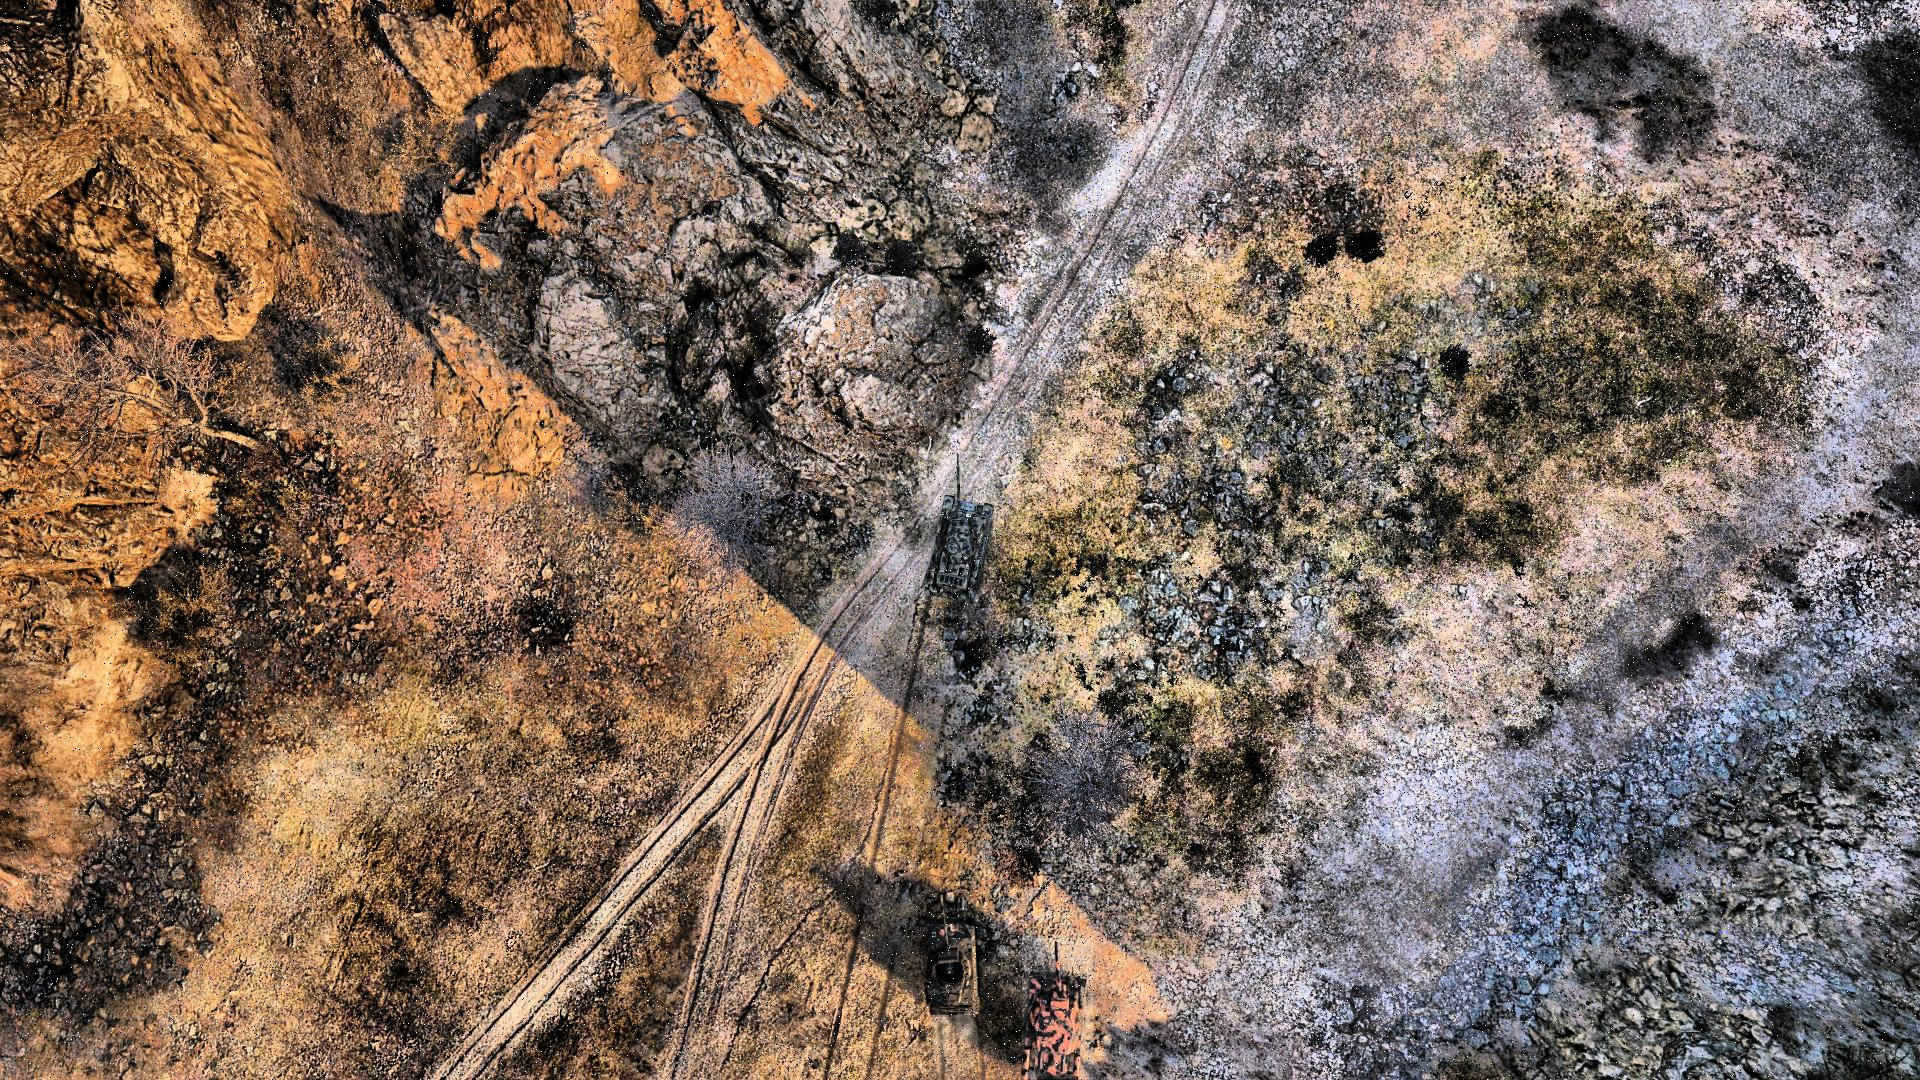military-vehicle: (919, 451, 996, 603), (1022, 939, 1093, 1080), (922, 893, 984, 1017)
